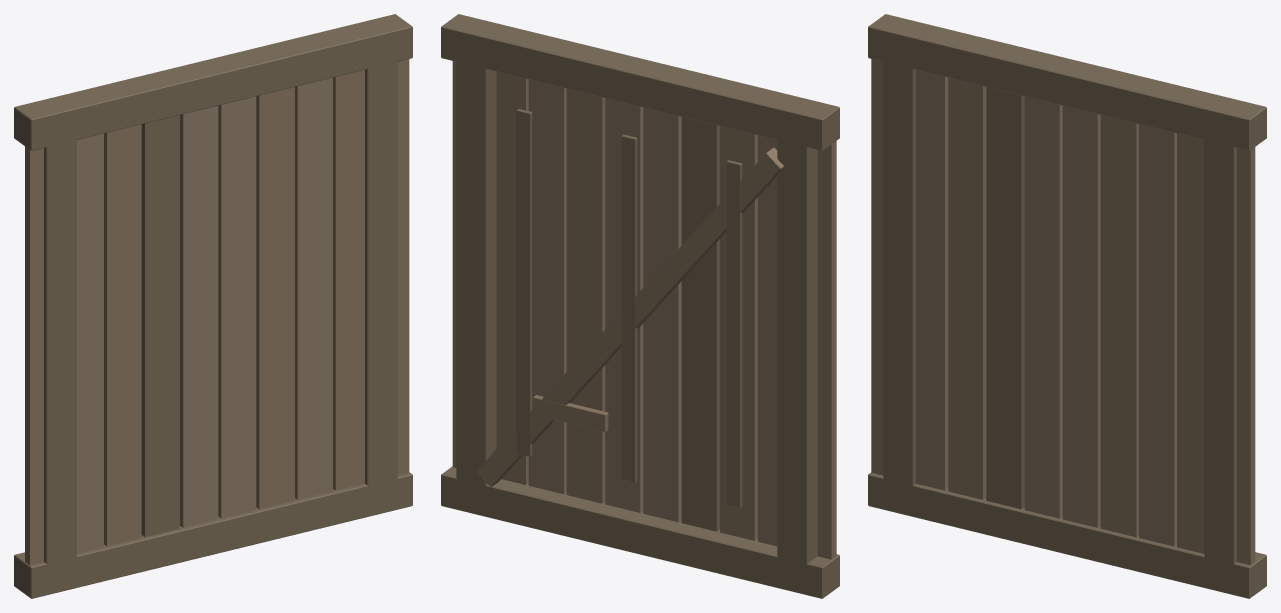
Rendered from env_wall_plank_repaired_c_v01_strapped.glb.
The picture shows the model from 3 angles, left to right: view 1: azimuth 30°, elevation 25°; view 2: azimuth 150°, elevation 25°; view 3: azimuth 330°, elevation 25°; orthographic projection.
Visible parts, largest first — view 1: material_2, material_1, material_0; view 2: material_2, material_0, material_1; view 3: material_2, material_1, material_0.
Part boxes in pixels (x1,y1,x2,y2): material_2: (14, 14, 412, 598); material_1: (76, 77, 332, 553); material_0: (25, 59, 409, 565); material_2: (441, 14, 839, 598); material_0: (452, 61, 836, 559); material_1: (528, 79, 777, 546); material_2: (868, 14, 1266, 598); material_1: (916, 70, 1176, 546); material_0: (871, 59, 1255, 565).
Bounding box in the file's own units: 2 × 2.4 × 0.19.
